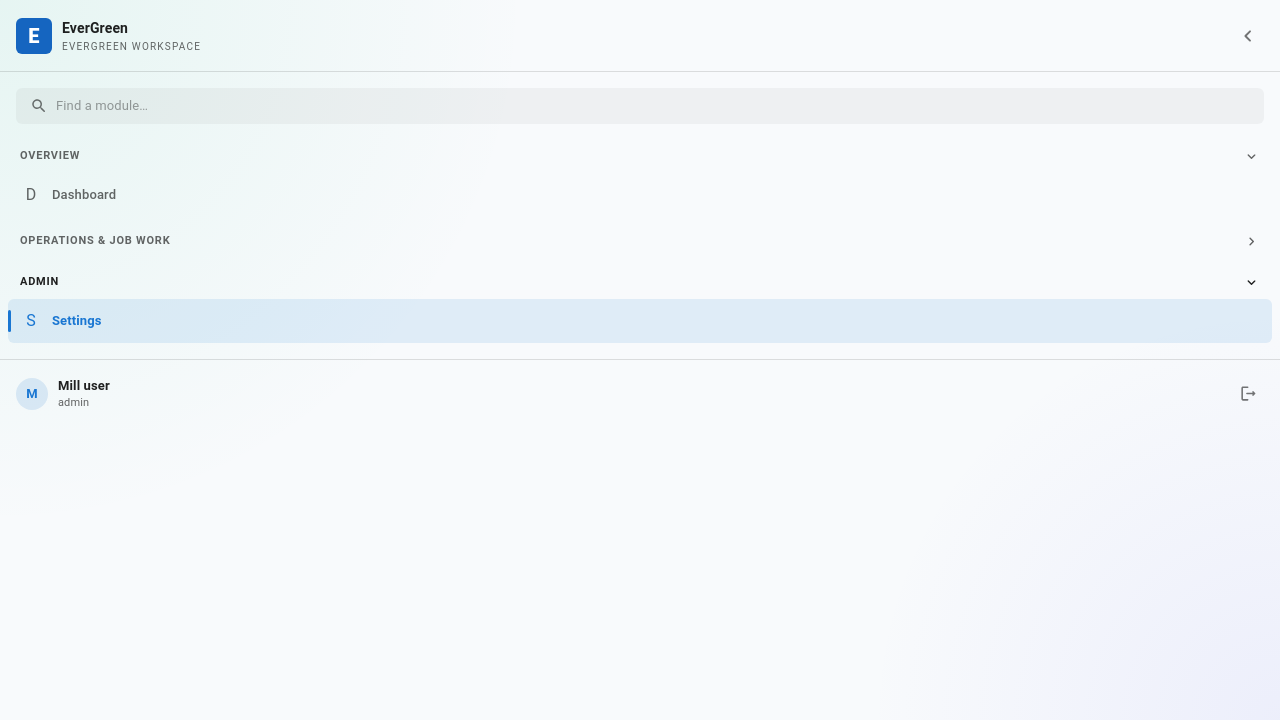
workspace navigation › opens the active group when the page changes and allows collapsing it
Click the button "Admin".
click(40, 281)  # box [8,266,1272,299]
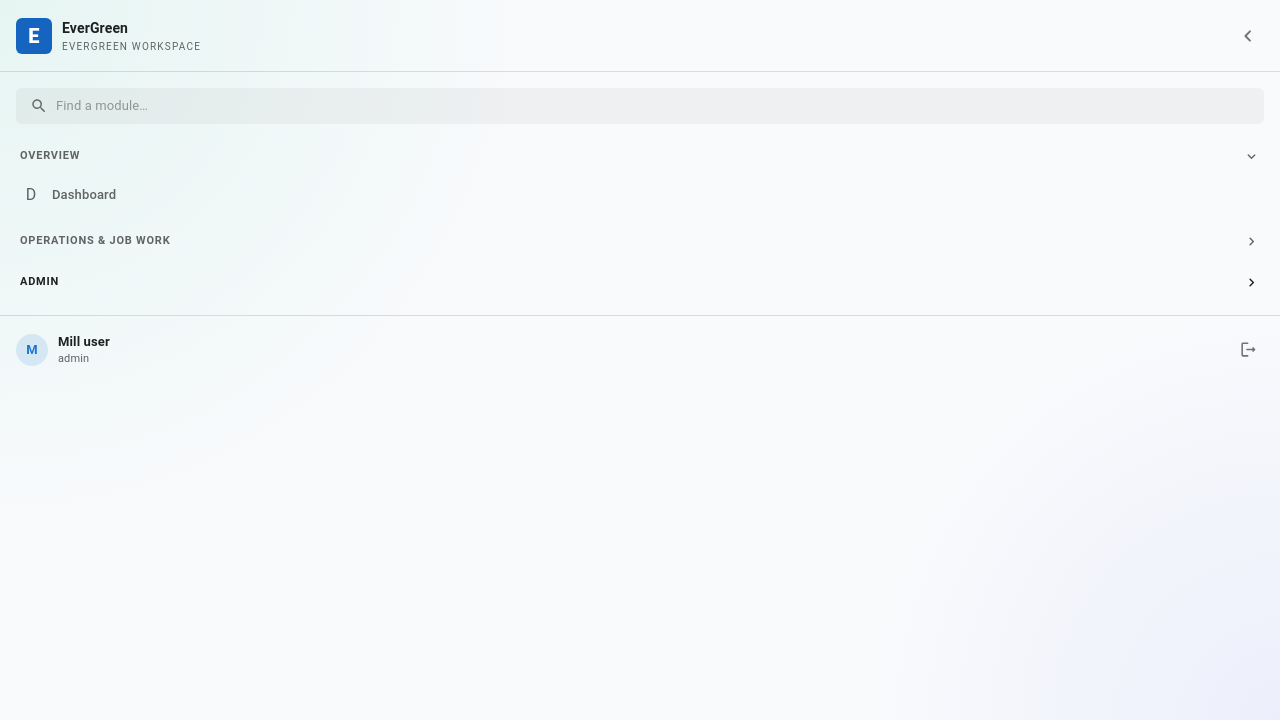
Result: the button "Admin" is collapsed at [8,266,1272,299]
Result: the link "Settings" is gone
